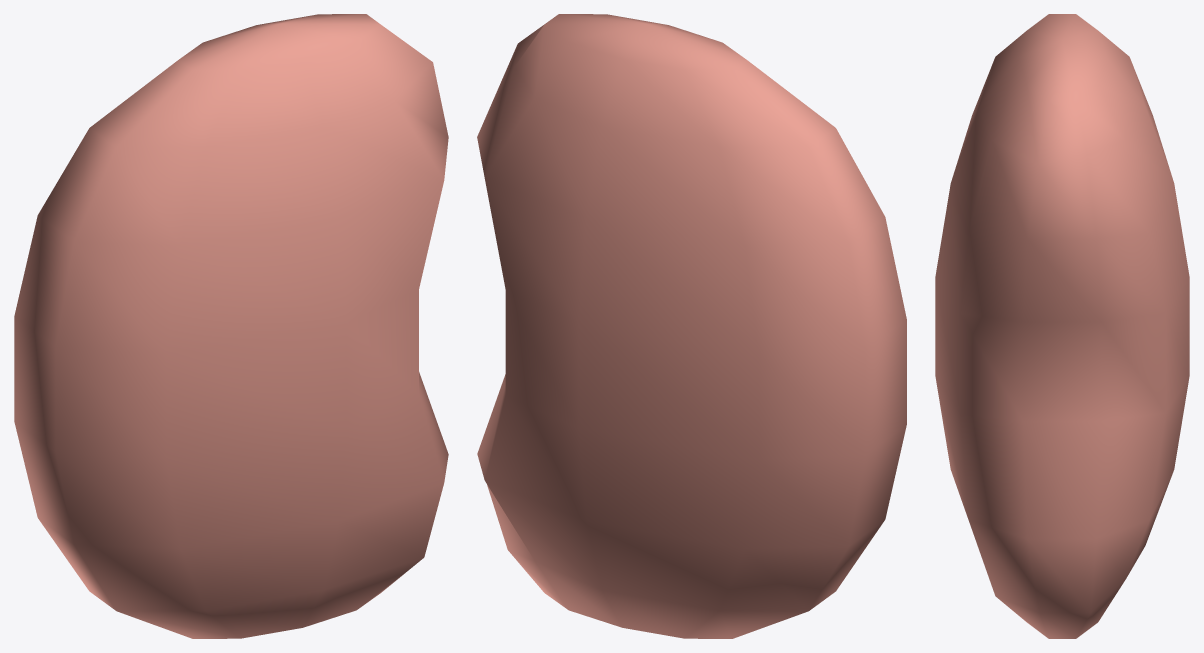
Rendered from Lima Bean Seed.fbx.
The picture shows the model from 3 angles, left to right: view 1: azimuth 30°, elevation 25°; view 2: azimuth 150°, elevation 25°; view 3: azimuth 270°, elevation 25°; orthographic projection. The views are drawn at different scales.
Parts seen in each view (by area): view 1: Sphere.002; view 2: Sphere.002; view 3: Sphere.002.
Part boxes in pixels (x1,y1,x2,y2): Sphere.002: (14, 14, 448, 638); Sphere.002: (477, 14, 906, 638); Sphere.002: (935, 14, 1189, 638).
Size of the model in its own units: 141 by 207 by 83.38.
